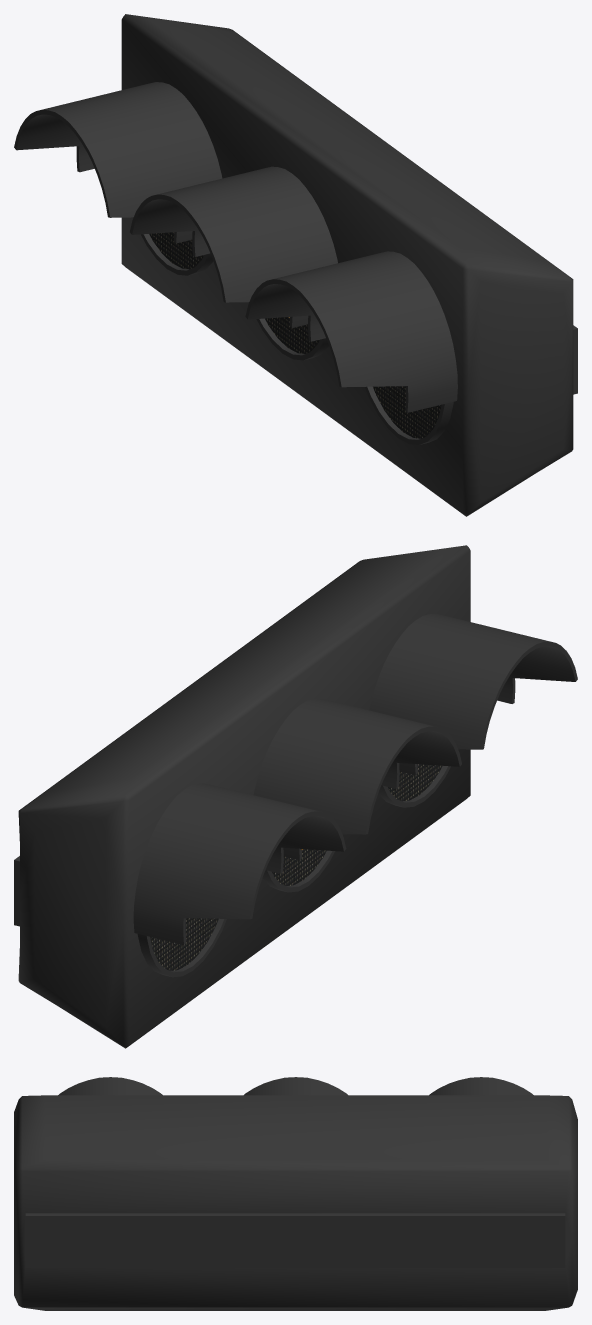
File: 横向直行灯_YellowLight.fbx
The picture shows the model from 3 angles, top to bottom: view 1: azimuth 30°, elevation 25°; view 2: azimuth 150°, elevation 25°; view 3: azimuth 270°, elevation 25°; orthographic projection. The views are drawn at different scales.
Visible parts, largest first — view 1: 横向直行灯_YellowLight; view 2: 横向直行灯_YellowLight; view 3: 横向直行灯_YellowLight.
Part boxes in pixels (x1,y1,x2,y2): 横向直行灯_YellowLight: (14, 14, 577, 516); 横向直行灯_YellowLight: (14, 545, 577, 1048); 横向直行灯_YellowLight: (14, 1077, 577, 1310).
Bounding box in the file's own units: 0.6 × 0.65 × 1.58.
3 materials, 2 textured.
